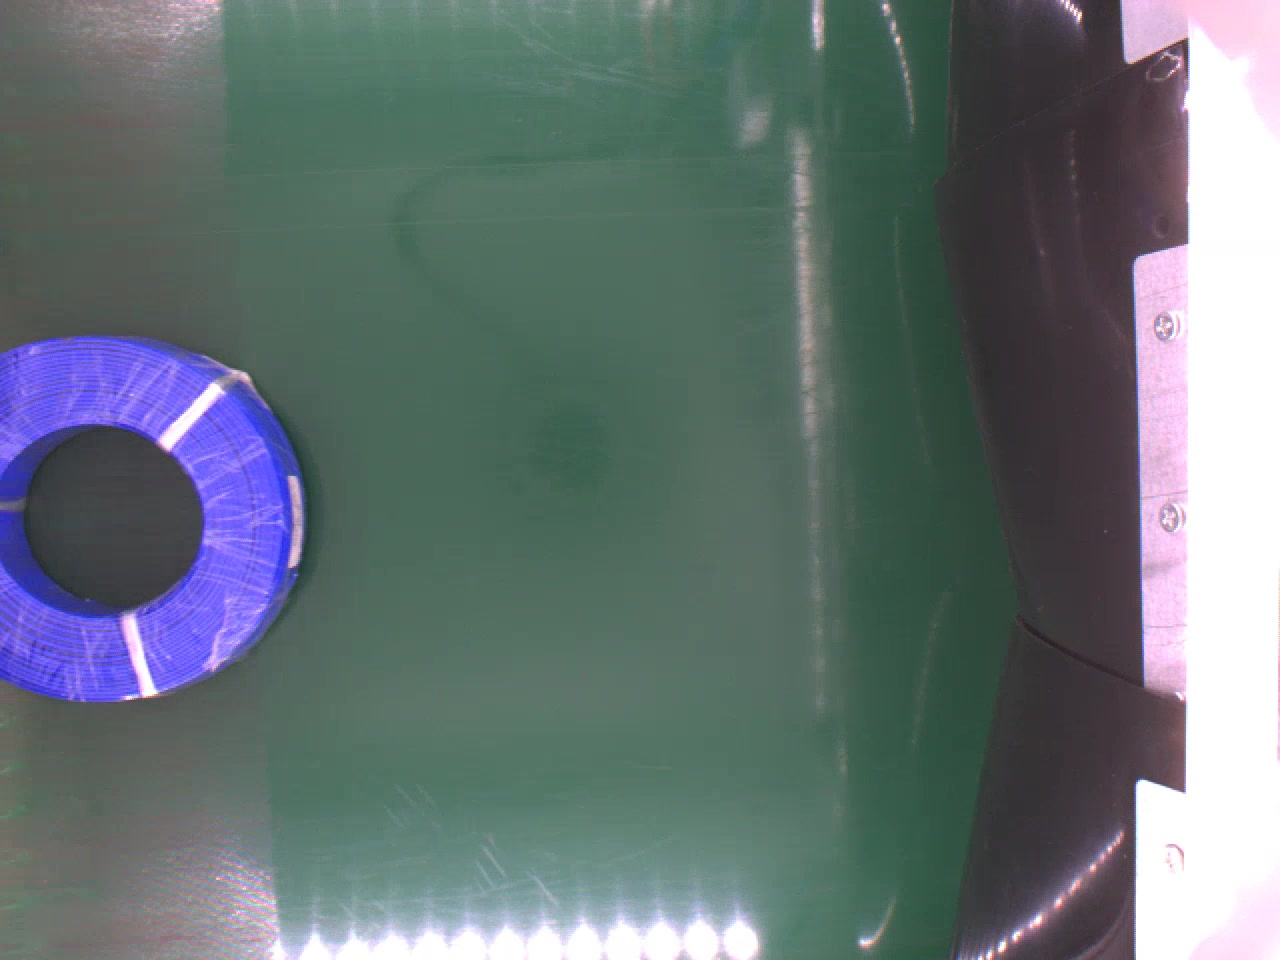blue: (0, 332, 310, 702)
